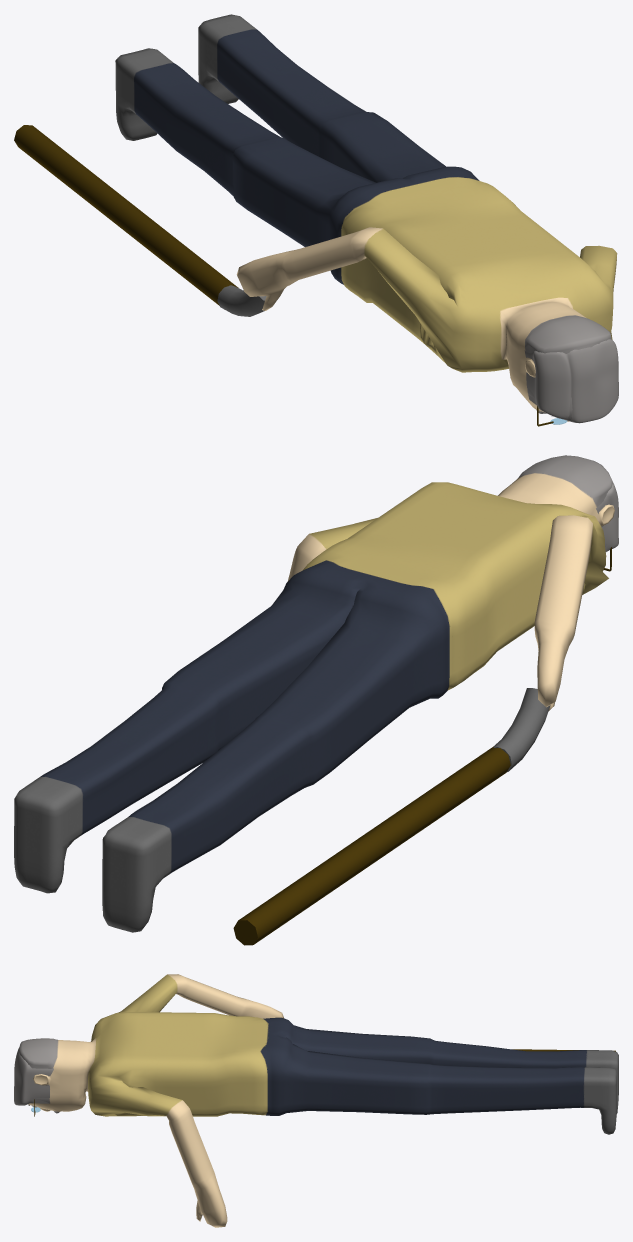
File: grandfather.obj
3 views of the same model, one above another, from view 1: azimuth 30°, elevation 25°; view 2: azimuth 150°, elevation 25°; view 3: azimuth 270°, elevation 25° (orthographic). The views are drawn at different scales.
Parts seen in each view (by area): view 1: grandfather; view 2: grandfather; view 3: grandfather.
Boxes of the visible parts, x1=… form: grandfather: x1=14, y1=14, x2=618, y2=426; grandfather: x1=14, y1=455, x2=618, y2=945; grandfather: x1=14, y1=974, x2=618, y2=1227.
Size of the model in its own units: 41.79 by 31.26 by 101.
1 material, 1 textured.
